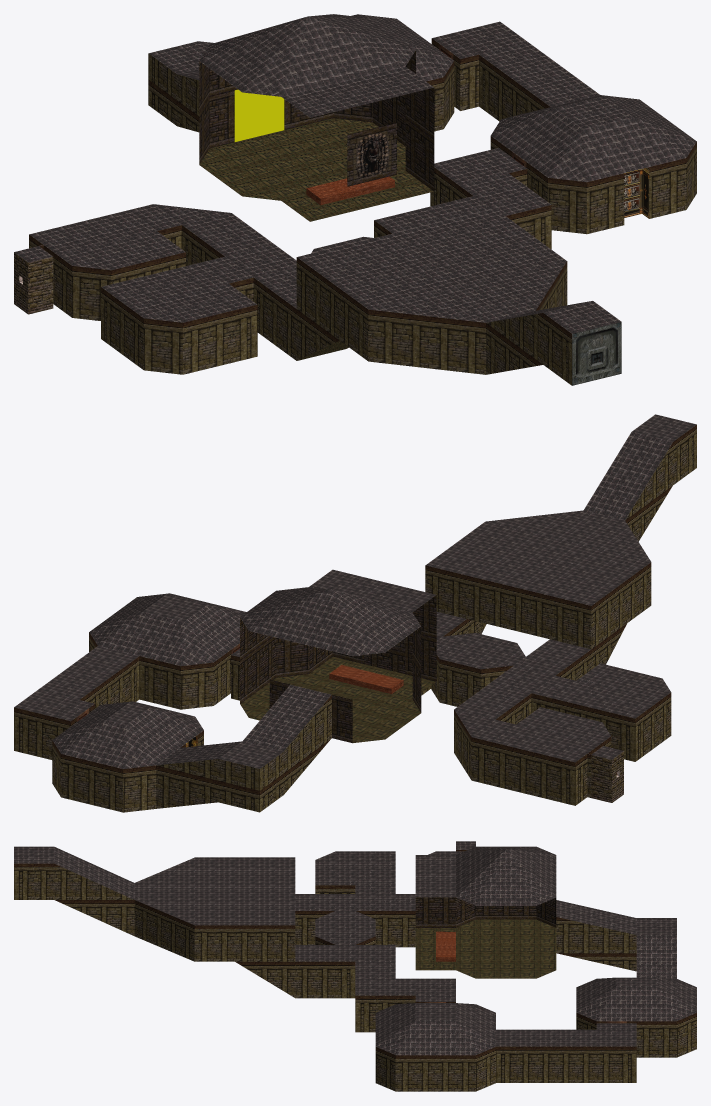
File: T2.Blv.obj
3 views of the same model, one above another, from view 1: azimuth 30°, elevation 25°; view 2: azimuth 150°, elevation 25°; view 3: azimuth 270°, elevation 25° (orthographic). The views are drawn at different scales.
Parts seen in each view (by area): view 1: Room12, Room2, Room9, Room6, Room7, Room10, Room11, Room1, Room3, Room4, Room8; view 2: Room12, Room11, Room2, Room9, Room7, Room6, Room1, Room10, Room3, Room5, Room8, Room4; view 3: Room12, Room2, Room11, Room9, Room4, Room10, Room1, Room3, Room6, Room5.
Boxes of the visible parts, <box> form: Room12: <box>199,14,434,221</box>; Room2: <box>296,208,567,374</box>; Room9: <box>490,95,696,234</box>; Room6: <box>101,256,257,374</box>; Room7: <box>29,204,185,320</box>; Room10: <box>431,21,599,121</box>; Room11: <box>148,14,454,141</box>; Room1: <box>486,301,621,385</box>; Room3: <box>154,204,296,360</box>; Room4: <box>374,148,551,249</box>; Room8: <box>14,245,53,314</box>; Room12: <box>240,569,436,743</box>; Room11: <box>52,684,331,812</box>; Room2: <box>425,510,651,669</box>; Room9: <box>89,593,246,709</box>; Room7: <box>471,707,611,805</box>; Room6: <box>531,663,671,761</box>; Room1: <box>583,414,696,541</box>; Room10: <box>14,646,139,759</box>; Room3: <box>454,639,591,779</box>; Room5: <box>431,633,525,706</box>; Room8: <box>587,746,623,802</box>; Room4: <box>231,612,466,700</box>; Room12: <box>415,846,556,978</box>; Room2: <box>134,857,295,997</box>; Room11: <box>556,900,696,1057</box>; Room9: <box>375,1003,495,1091</box>; Room4: <box>295,945,455,1032</box>; Room10: <box>496,1023,636,1082</box>; Room1: <box>14,846,134,936</box>; Room3: <box>295,894,415,947</box>; Room6: <box>315,851,395,893</box>; Room5: <box>315,911,375,944</box>.
Size of the model in its own units: 3224 by 960 by 4352.
Materials: 24 (24 with a texture image).
